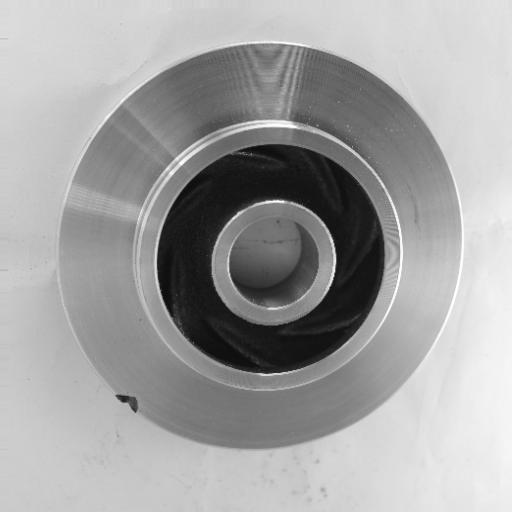crack: (109, 388, 150, 418)
unpolished_casting: (54, 40, 466, 455)
